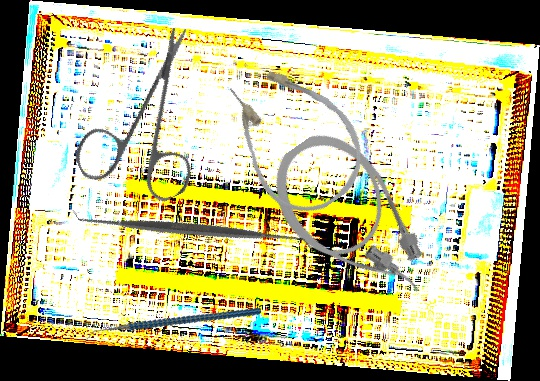Cannula: (254, 116, 448, 330), (205, 42, 383, 231)
Chopper: (82, 273, 262, 378)
Iris Scissors: (42, 23, 250, 229)
Spatula Surgical: (72, 110, 313, 350)
